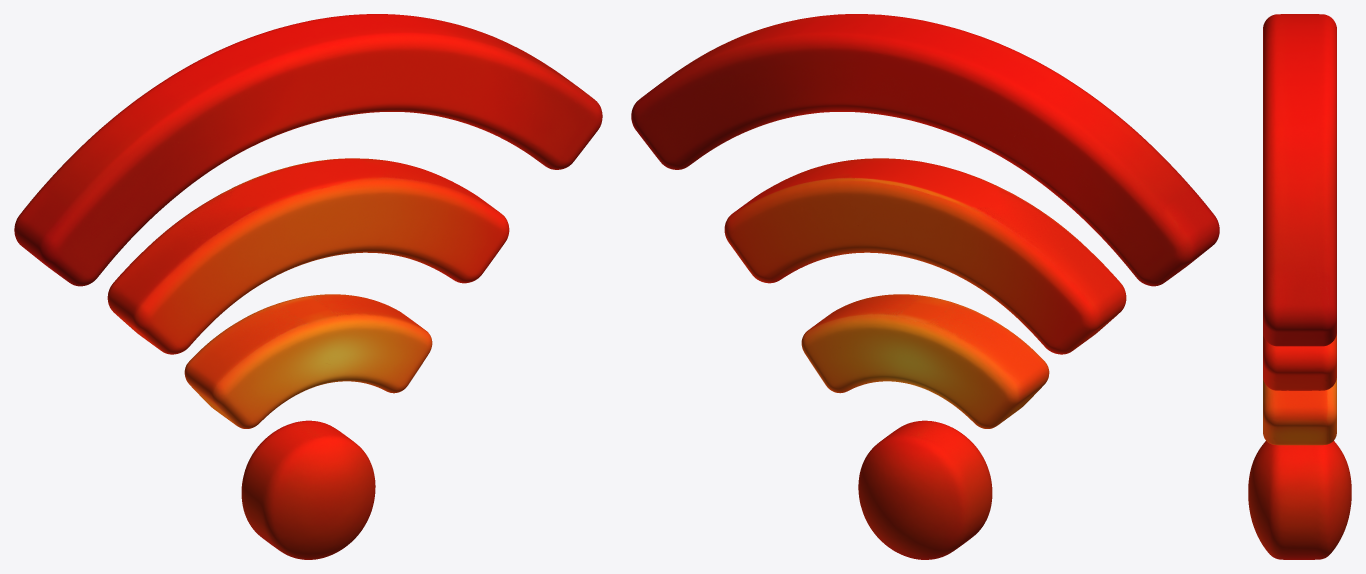
File: Sinal 5G.fbx
The picture shows the model from 3 angles, left to right: view 1: azimuth 30°, elevation 25°; view 2: azimuth 150°, elevation 25°; view 3: azimuth 270°, elevation 25°; orthographic projection. The views are drawn at different scales.
Visible parts, largest first — view 1: Mesh_0; view 2: Mesh_0; view 3: Mesh_0.
Boxes of the visible parts, <box> form: Mesh_0: <box>14,14,602,559</box>; Mesh_0: <box>631,14,1219,559</box>; Mesh_0: <box>1248,14,1351,559</box>.
Bounding box in the file's own units: 190 × 167 × 31.3.
Materials: 1 (1 with a texture image).
